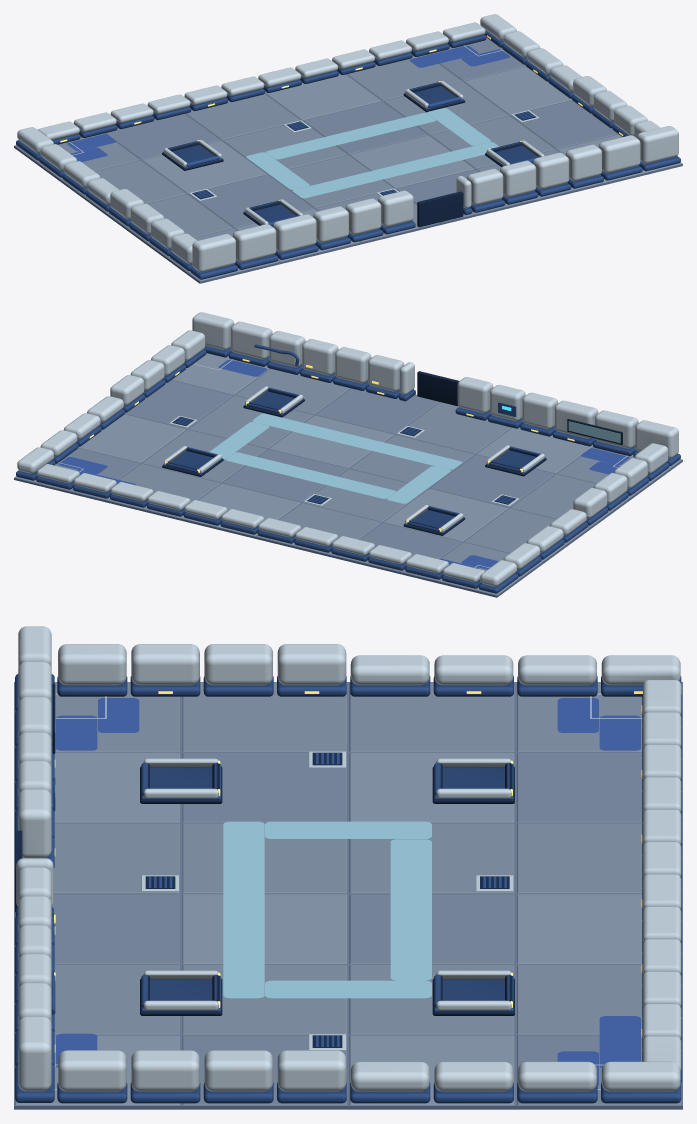
The model's file is CryoSoftRoom_cryo-boss.fbx.
3 views of the same model, one above another, from view 1: azimuth 30°, elevation 25°; view 2: azimuth 150°, elevation 25°; view 3: azimuth 270°, elevation 25° (orthographic). The views are drawn at different scales.
Parts seen in each view (by area): view 1: SC_wall_Soft_Ivory, SC_floor_Soft_Floor, SC_floor_Soft_FloorShade, SC_floor_Soft_FloorLight, SC_wall_Soft_Blue, SC_marking_Soft_Ice, SC_floor_Soft_Seam, SC_obstacle_Soft_Blue, SC_marking_Soft_Dock, SC_obstacle_Soft_Ivory, SC_wall_Soft_Navy, SC_obstacle_Soft_Navy (+1 smaller); view 2: SC_wall_Soft_Ivory, SC_floor_Soft_Floor, SC_floor_Soft_FloorShade, SC_floor_Soft_FloorLight, SC_wall_Soft_Blue, SC_marking_Soft_Ice, SC_floor_Soft_Seam, SC_obstacle_Soft_Blue, SC_marking_Soft_Dock, SC_wall_Soft_Navy, SC_obstacle_Soft_Ivory, SC_obstacle_Soft_Navy (+3 smaller); view 3: SC_floor_Soft_Floor, SC_wall_Soft_Ivory, SC_floor_Soft_FloorShade, SC_floor_Soft_FloorLight, SC_marking_Soft_Ice, SC_wall_Soft_Blue, SC_floor_Soft_Seam, SC_marking_Soft_Dock, SC_obstacle_Soft_Blue, SC_obstacle_Soft_Ivory, SC_obstacle_Soft_Navy, SC_marking_Soft_Ivory (+2 smaller).
Part boxes in pixels (x1=…): SC_wall_Soft_Ivory: x1=17, y1=14, x2=678, y2=272; SC_floor_Soft_Floor: x1=15, y1=55, x2=600, y2=281; SC_floor_Soft_FloorShade: x1=105, y1=38, x2=617, y2=227; SC_floor_Soft_FloorLight: x1=142, y1=66, x2=681, y2=261; SC_wall_Soft_Blue: x1=16, y1=30, x2=680, y2=279; SC_marking_Soft_Ice: x1=246, y1=108, x2=499, y2=198; SC_floor_Soft_Seam: x1=14, y1=54, x2=682, y2=283; SC_obstacle_Soft_Blue: x1=163, y1=82, x2=541, y2=226; SC_marking_Soft_Dock: x1=67, y1=46, x2=510, y2=161; SC_obstacle_Soft_Ivory: x1=163, y1=81, x2=544, y2=224; SC_wall_Soft_Navy: x1=417, y1=191, x2=463, y2=227; SC_obstacle_Soft_Navy: x1=162, y1=93, x2=502, y2=226; SC_wall_Soft_Ivory: x1=17, y1=312, x2=678, y2=586; SC_floor_Soft_Floor: x1=96, y1=369, x2=681, y2=595; SC_floor_Soft_FloorShade: x1=15, y1=380, x2=554, y2=575; SC_floor_Soft_FloorLight: x1=78, y1=353, x2=592, y2=541; SC_wall_Soft_Blue: x1=16, y1=344, x2=680, y2=593; SC_marking_Soft_Ice: x1=209, y1=413, x2=462, y2=503; SC_floor_Soft_Seam: x1=14, y1=368, x2=682, y2=597; SC_obstacle_Soft_Blue: x1=163, y1=387, x2=545, y2=533; SC_marking_Soft_Dock: x1=59, y1=359, x2=629, y2=569; SC_wall_Soft_Navy: x1=417, y1=371, x2=622, y2=444; SC_obstacle_Soft_Ivory: x1=163, y1=386, x2=544, y2=531; SC_obstacle_Soft_Navy: x1=162, y1=399, x2=546, y2=535; SC_floor_Soft_Floor: x1=53, y1=682, x2=681, y2=1034; SC_wall_Soft_Ivory: x1=16, y1=626, x2=681, y2=1091; SC_floor_Soft_FloorShade: x1=15, y1=752, x2=681, y2=1105; SC_floor_Soft_FloorLight: x1=15, y1=752, x2=642, y2=1105; SC_marking_Soft_Ice: x1=223, y1=821, x2=431, y2=998; SC_wall_Soft_Blue: x1=15, y1=674, x2=681, y2=1103; SC_floor_Soft_Seam: x1=14, y1=682, x2=682, y2=1109; SC_marking_Soft_Dock: x1=56, y1=698, x2=640, y2=1084; SC_obstacle_Soft_Blue: x1=141, y1=762, x2=513, y2=1011; SC_obstacle_Soft_Ivory: x1=143, y1=758, x2=511, y2=1010; SC_obstacle_Soft_Navy: x1=140, y1=766, x2=514, y2=1015; SC_marking_Soft_Ivory: x1=54, y1=693, x2=642, y2=1090.
Size of the model in its own units: 4800 by 334 by 3200.
